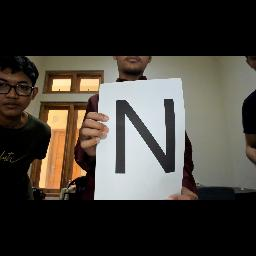n: (111, 92, 183, 182)
